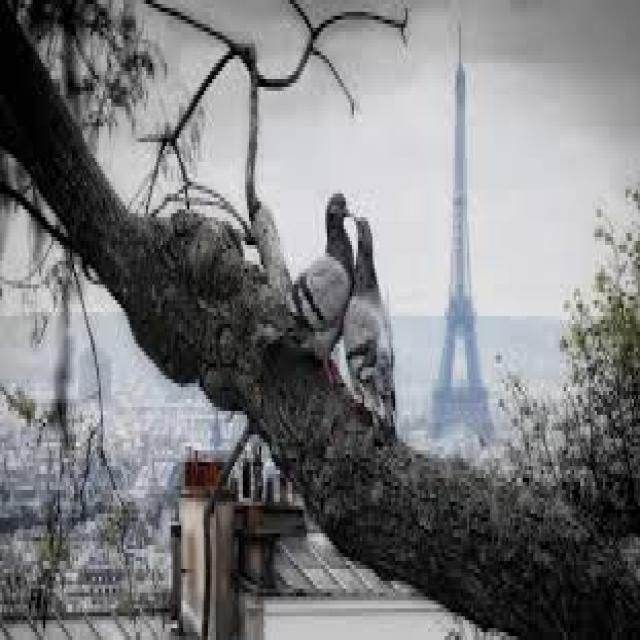pigeon: (276, 164, 352, 374)
